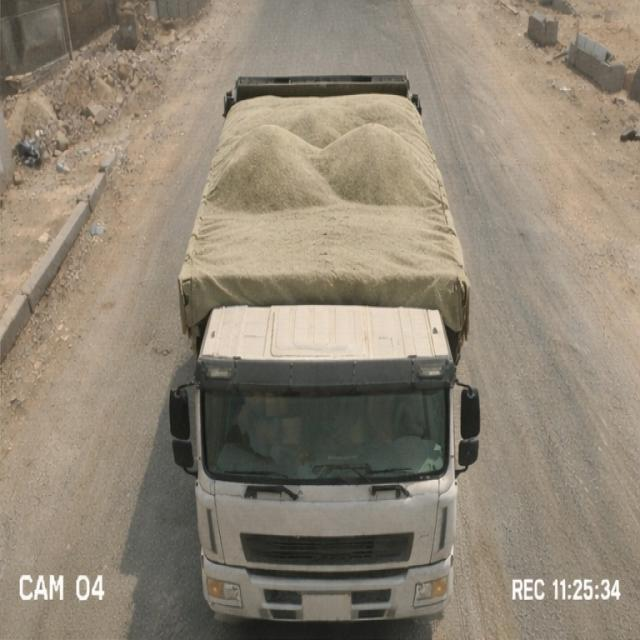Box: (160, 68, 486, 281)
Truck: (153, 32, 485, 621)
